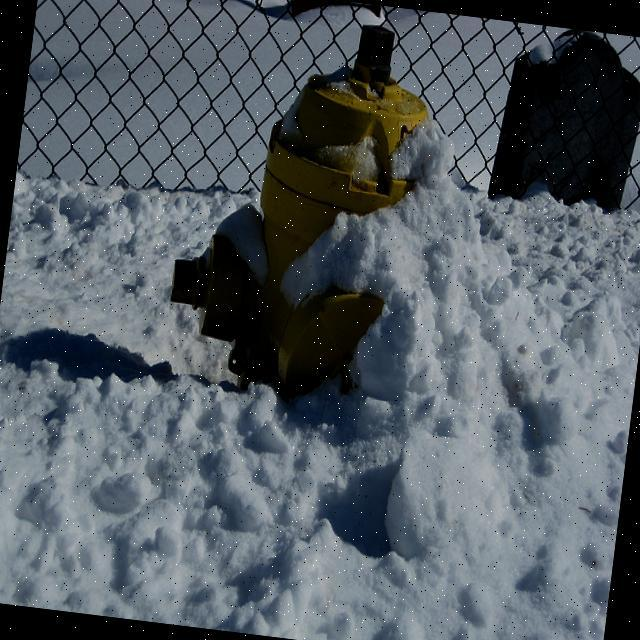fire_hydrant: (162, 6, 436, 406)
